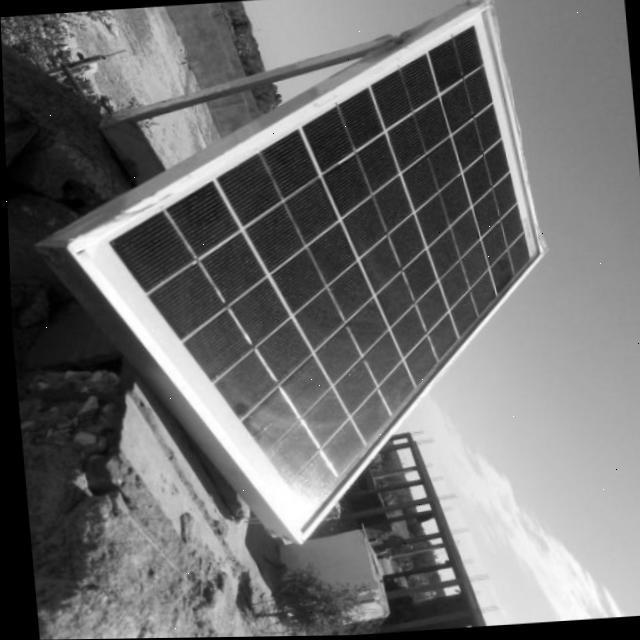Normal Solar Panel: (43, 0, 566, 556)
